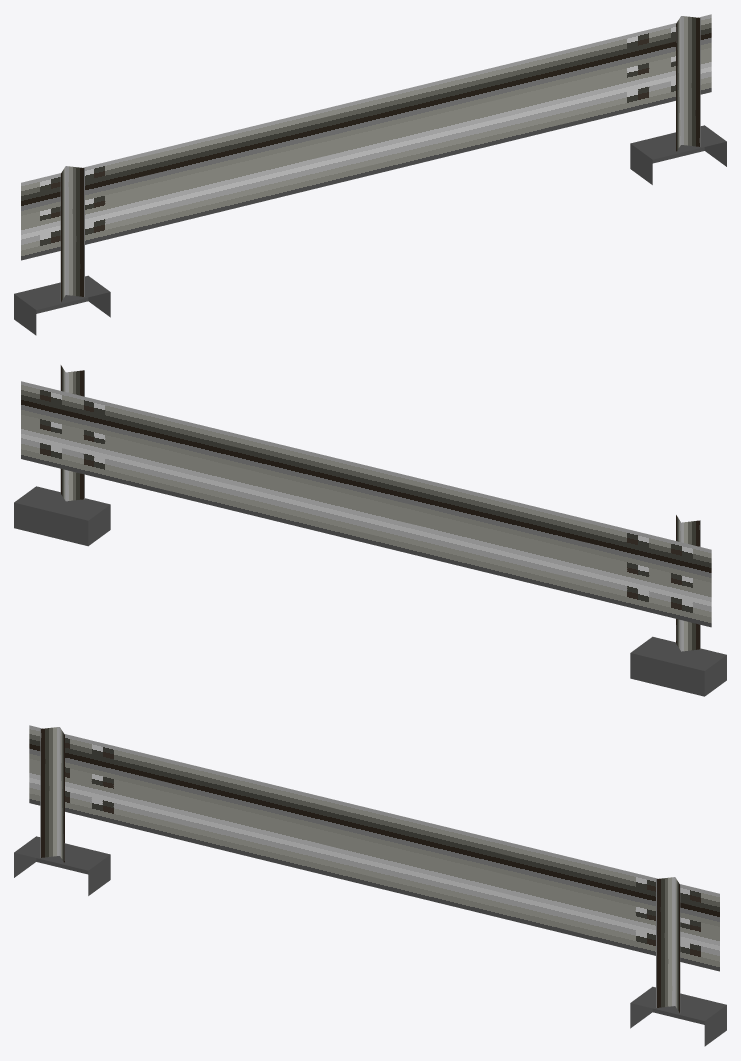
3 views of the same model, one above another, from view 1: azimuth 30°, elevation 25°; view 2: azimuth 150°, elevation 25°; view 3: azimuth 330°, elevation 25° (orthographic).
Visible parts, largest first — view 1: obj-187; view 2: obj-187; view 3: obj-187.
Part boxes in pixels (x1,y1,x2,y2): obj-187: [14, 14, 726, 335]; obj-187: [14, 365, 726, 696]; obj-187: [14, 725, 726, 1046].
Size of the model in its own units: 0.7168 by 0.1533 by 0.04.
Materials: 1 (1 with a texture image).
